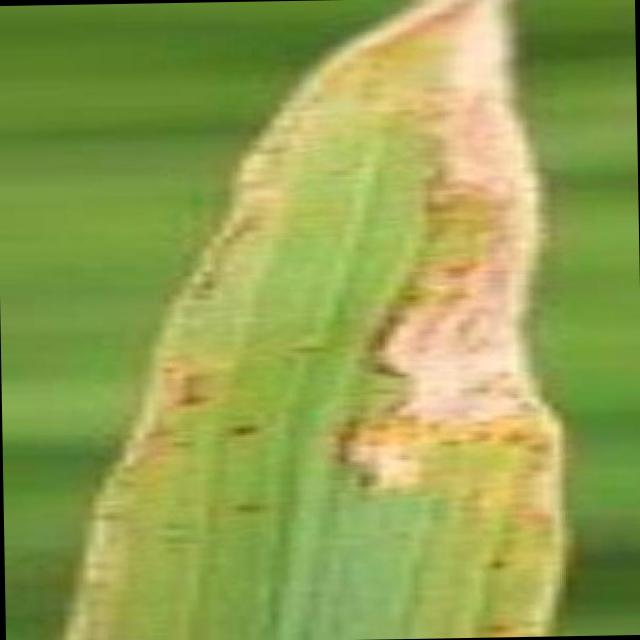Rice_Bacterial_Blight: (150, 2, 560, 636)
